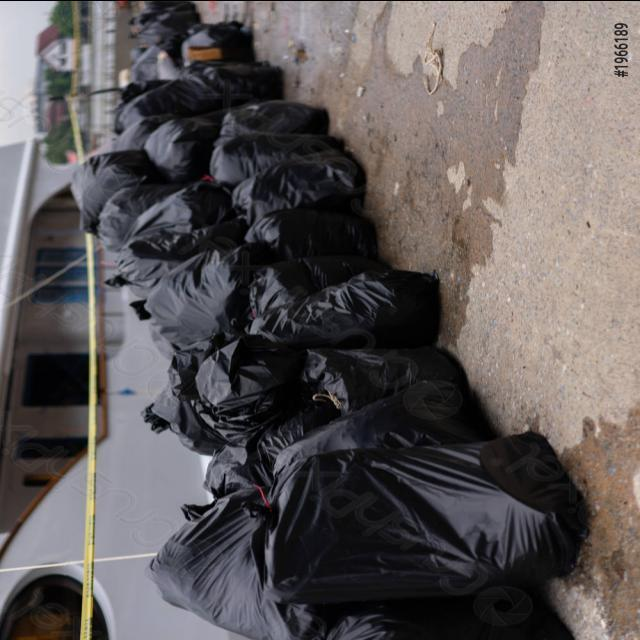Trashbag: (259, 423, 588, 611), (144, 502, 278, 636), (302, 338, 462, 432), (142, 245, 257, 368), (193, 335, 314, 444), (291, 264, 438, 346), (247, 195, 370, 285), (222, 101, 331, 185), (130, 176, 240, 259), (64, 145, 139, 231), (142, 105, 215, 183)
